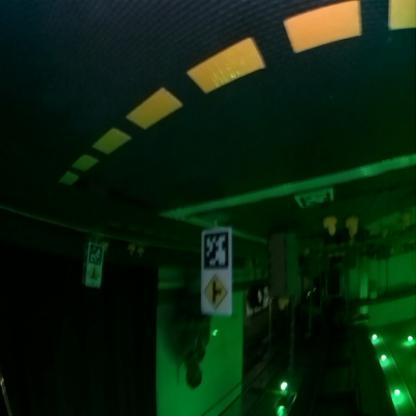Duckie: (324, 218, 336, 236), (345, 220, 358, 236), (136, 250, 142, 258)
Intersection sign: (202, 274, 228, 310), (86, 268, 100, 287)
QR code: (201, 232, 229, 272), (296, 188, 334, 209), (88, 245, 102, 263)
